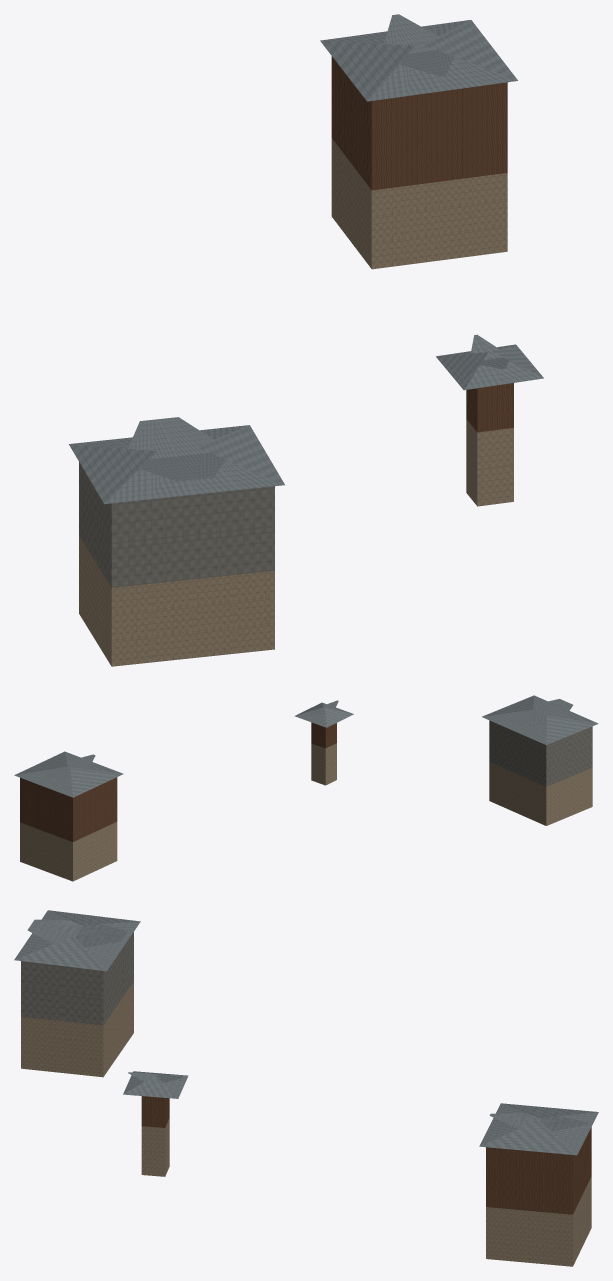
Rendered from bld_c9_8_499.gltf.
3 renders of one model, top to bottom at view 1: azimuth 30°, elevation 25°; view 2: azimuth 150°, elevation 25°; view 3: azimuth 270°, elevation 25°, orthographic. The views are drawn at different scales.
Visible parts, largest first — view 1: bld_c9_8_499; view 2: bld_c9_8_499; view 3: bld_c9_8_499.
Part boxes in pixels (x1,y1,x2,y2): bld_c9_8_499: [69, 14, 543, 666]; bld_c9_8_499: [14, 695, 598, 881]; bld_c9_8_499: [14, 910, 598, 1266].
Bounding box in the file's own units: 52.02 × 12.2 × 52.01.
Materials: 4 (4 with a texture image).
